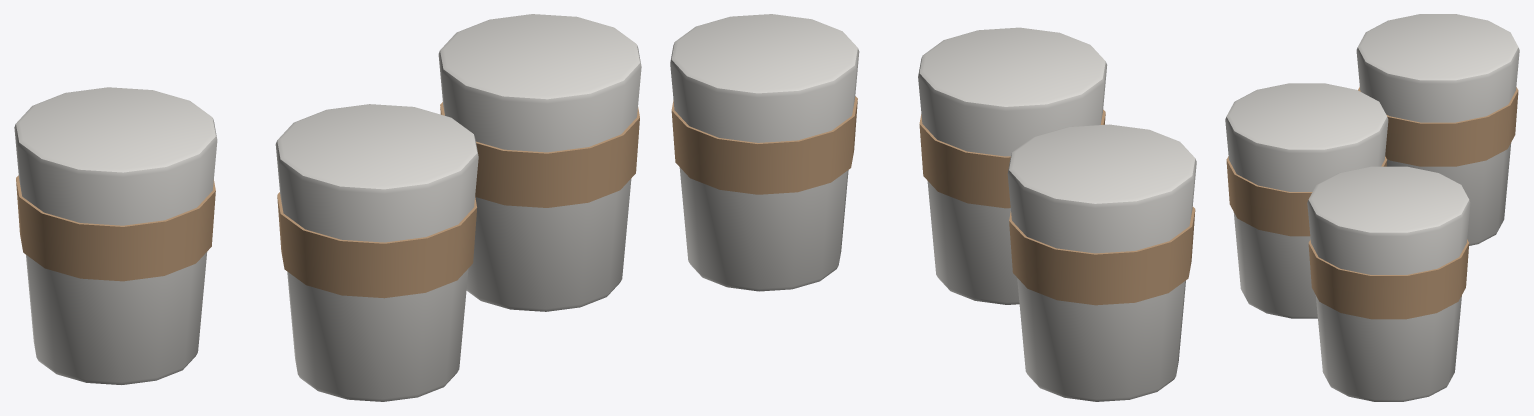
The model's file is sd_copos.glb.
3 renders of one model, left to right at view 1: azimuth 30°, elevation 25°; view 2: azimuth 150°, elevation 25°; view 3: azimuth 270°, elevation 25°, orthographic. The views are drawn at different scales.
Visible parts, largest first — view 1: Cone; view 2: Cone; view 3: Cone.
Boxes of the visible parts, x1=… form: Cone: x1=14, y1=14, x2=641, y2=401; Cone: x1=670, y1=14, x2=1196, y2=401; Cone: x1=1225, y1=14, x2=1519, y2=401.
Bounding box in the file's own units: 0.317 × 0.12 × 0.1795.
